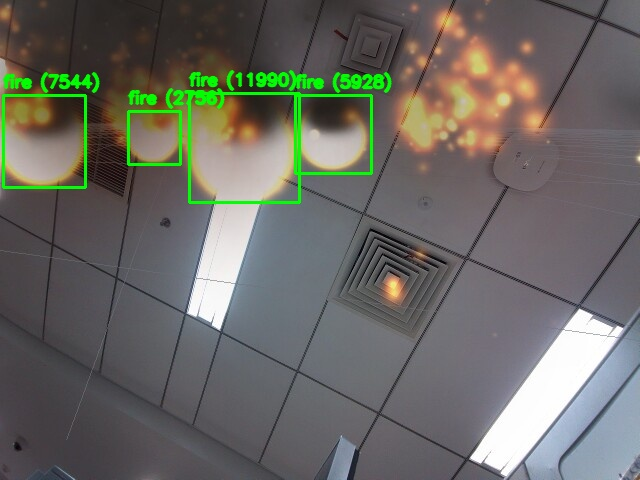fire: (189, 93, 299, 202), (3, 95, 85, 187), (295, 95, 371, 173), (128, 111, 180, 164)
